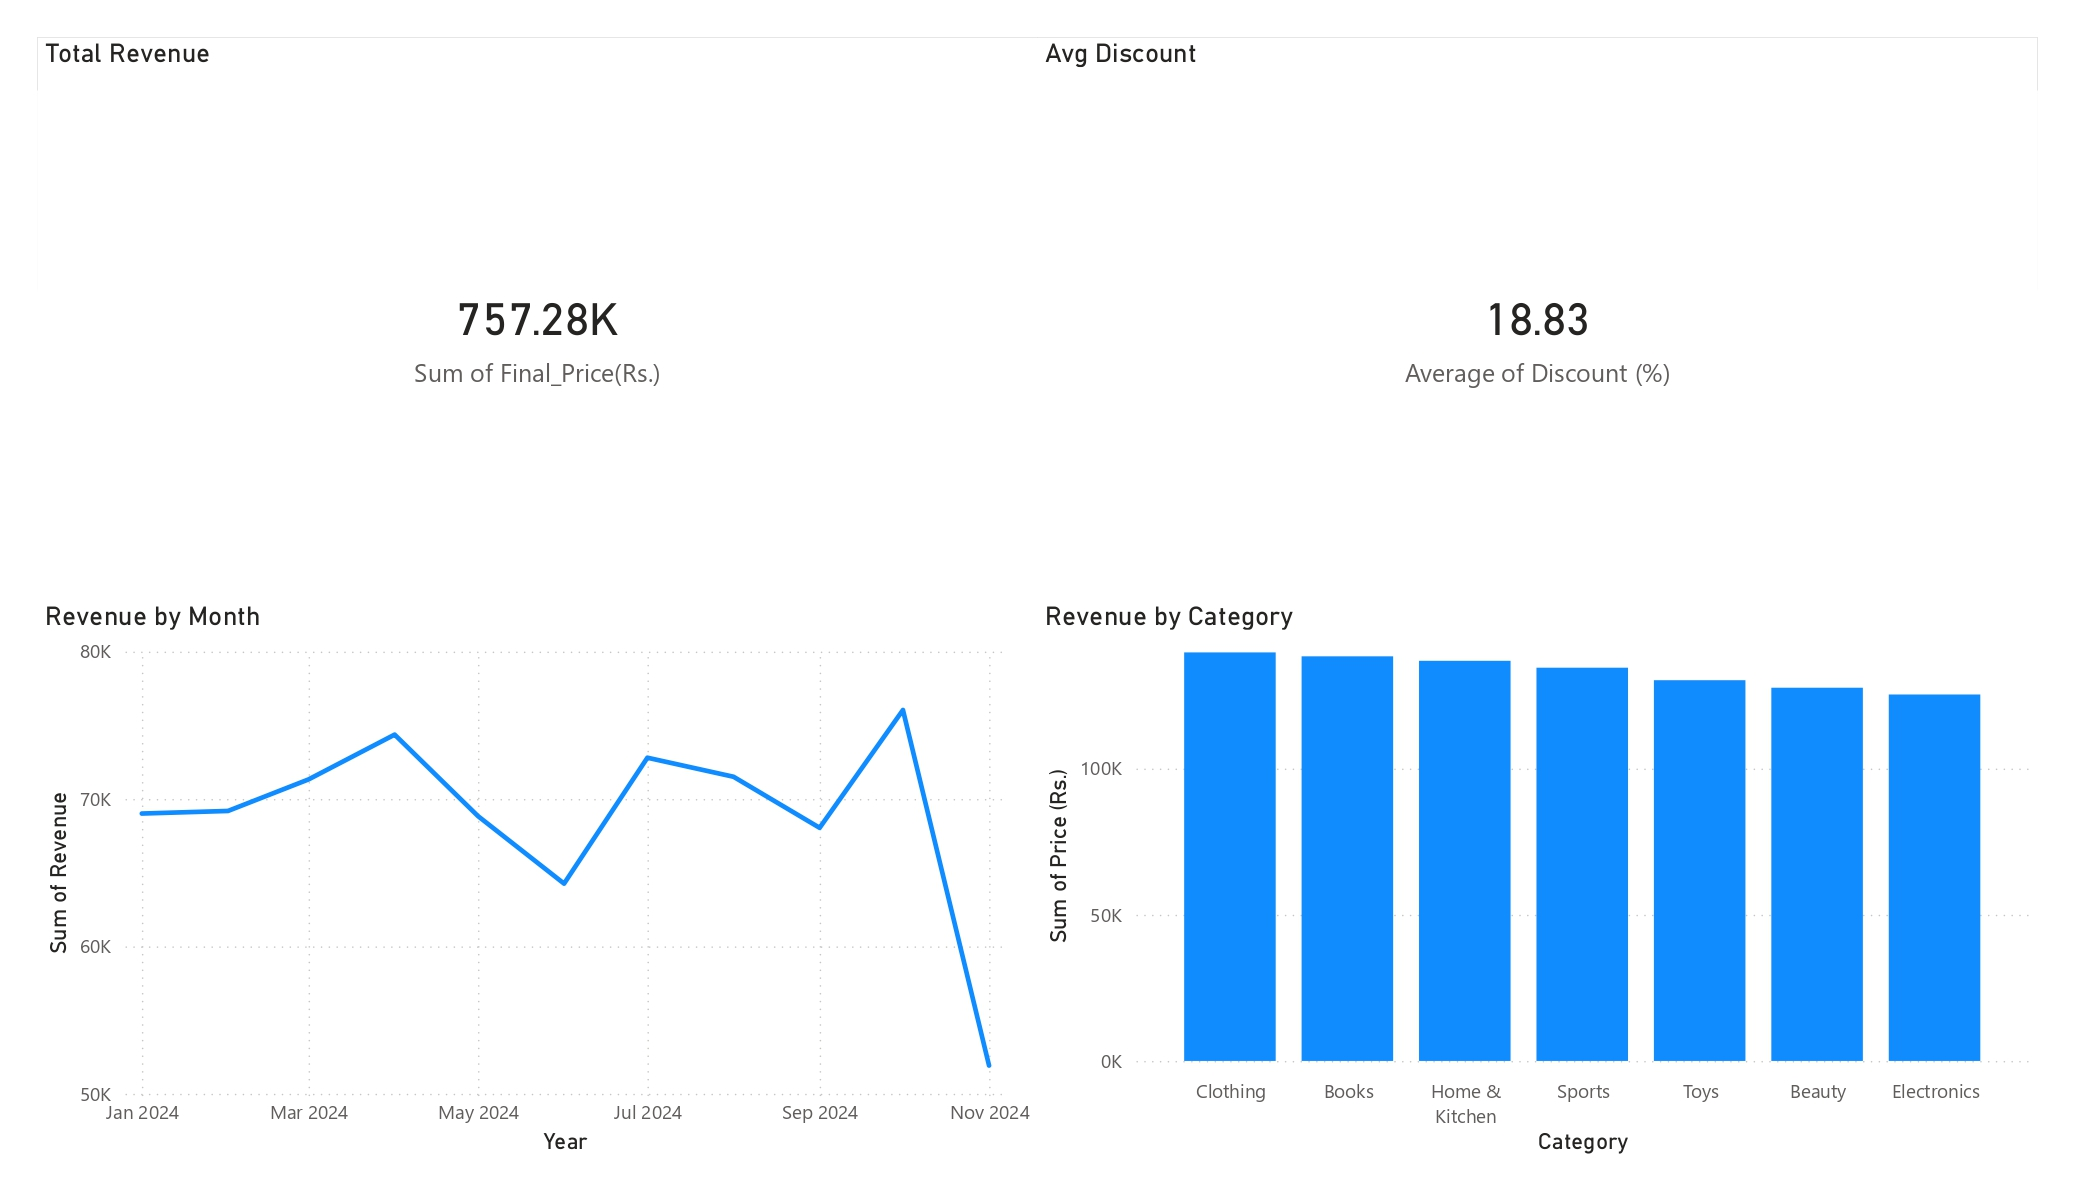

Layout of this report page (visuals, bound fields, positions):
{"tool":"powerbi","page":{"name":"Page 1","canvas":[1280,720],"ordinal":0},"visuals":[{"type":"lineChart","title":"Revenue by Month","fields":{"Category":["ecommerce_analysis_ready.Month.Variation.Date Hierarchy.Year","ecommerce_analysis_ready.Month.Variation.Date Hierarchy.Quarter","ecommerce_analysis_ready.Month.Variation.Date Hierarchy.Month","ecommerce_analysis_ready.Month.Variation.Date Hierarchy.Day"],"Y":["Sum(ecommerce_analysis_ready.Revenue)"]},"box":[0,359.7,639.6,360.6],"z":0},{"type":"clusteredColumnChart","title":"Revenue by Category","fields":{"Y":["Sum(ecommerce_analysis_ready.Price (Rs.))"],"Category":["ecommerce_analysis_ready.Category"]},"box":[639.6,359.7,640.5,360.6],"z":1000},{"type":"card","title":"Total Revenue","fields":{"Values":["Sum(ecommerce_analysis_ready.Final_Price(Rs.))"]},"box":[0,0,639.6,359.7],"z":2000},{"type":"card","title":"Avg Discount","fields":{"Values":["Avg(ecommerce_analysis_ready.Discount (%))"]},"box":[639.6,0,640.5,359.7],"z":3000}]}

Visuals, with their boxes on the page's 1280x720 design canvas (x1, y1, x2, y2). These are canvas units, not pixel positions in the 2075x1200 screenshot, which may show the page scaled, cropped or inside an application window:
"Revenue by Month" lineChart: (0,360,640,720)
"Revenue by Category" clusteredColumnChart: (640,360,1280,720)
"Total Revenue" card: (0,0,640,360)
"Avg Discount" card: (640,0,1280,360)
